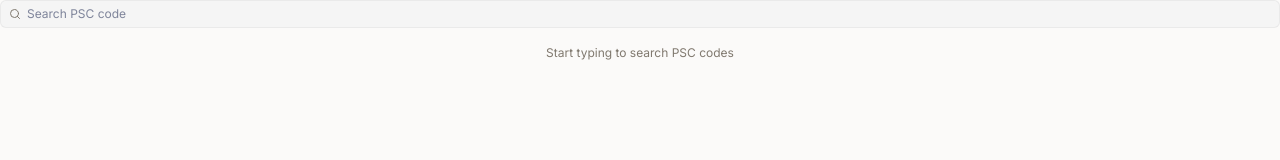
PscFacet › says the lookup failed, and lists nothing, when the request fails
The image size is (1280, 160).
Type "roof" into the field labelled "Search PSC code" at (649, 14), box [27,5,1271,23]
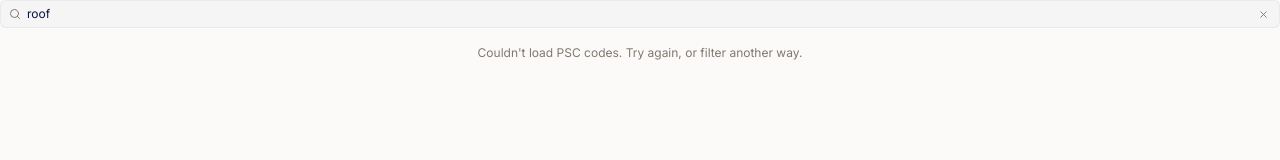
Now the list item "Couldn't load PSC codes. Try again, or filter another way." is shown, box [478,45,802,60]
